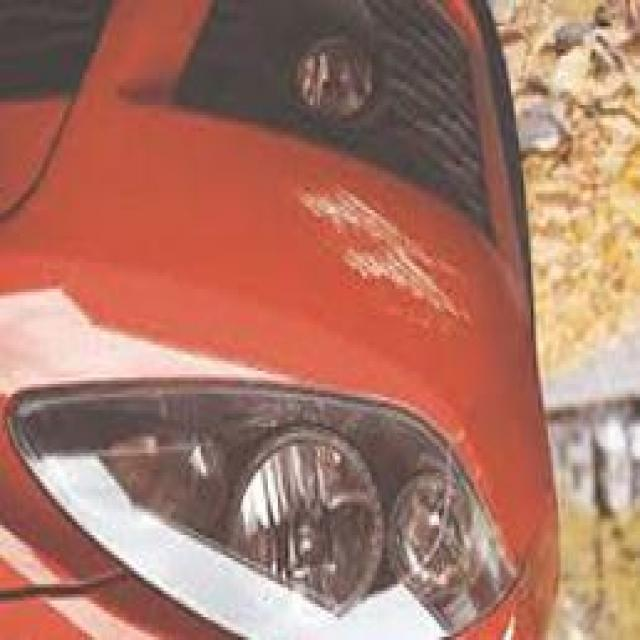scratch: (279, 164, 490, 328)
